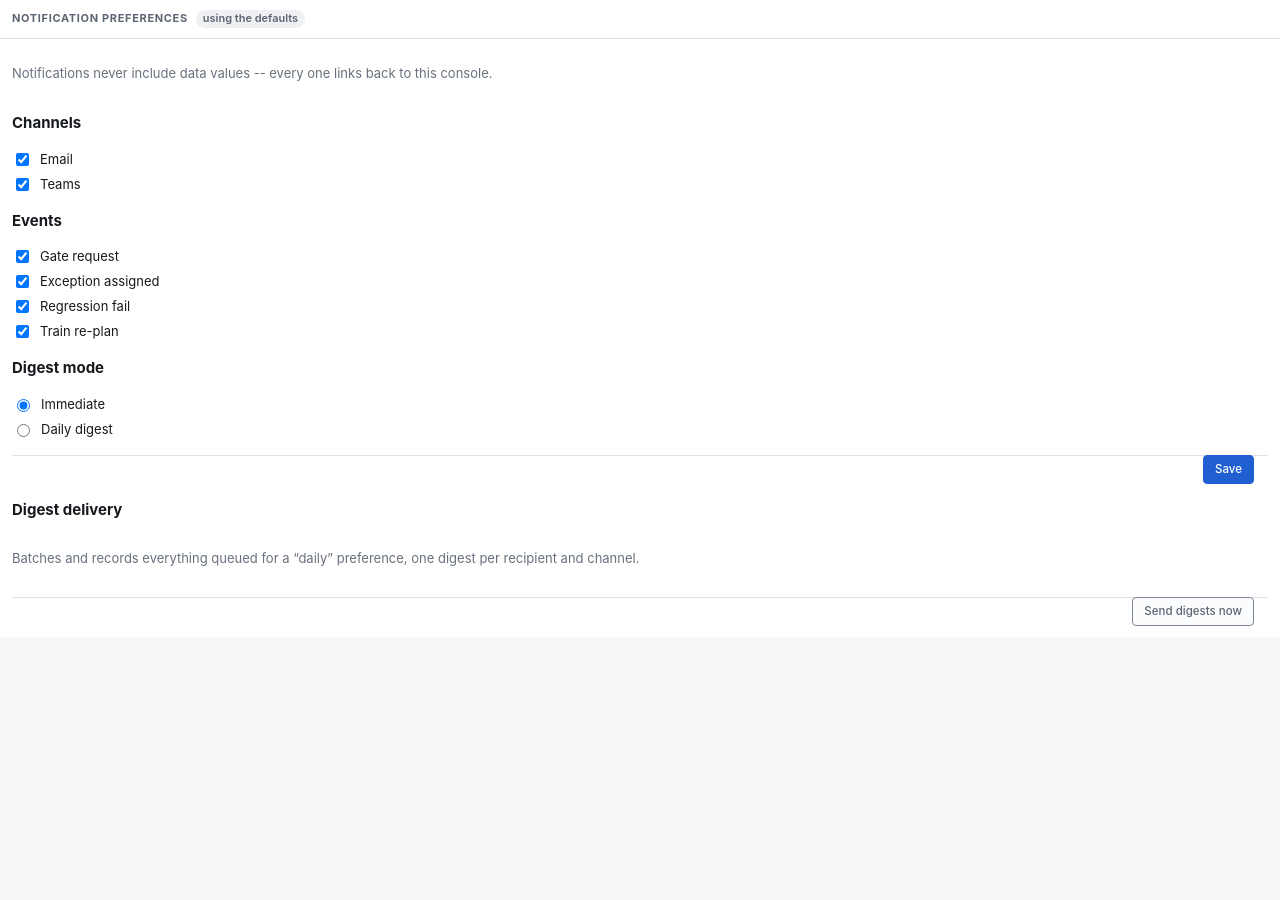
Test: digest delivery › shows and runs "Send digests now" for an Artizent role
This screenshot has width=1280, height=900.
Expected: the text "using the defaults" is shown, 196,10 -> 305,28
Click the button "Send digests now" at (1193,612), box 1132,598 -> 1254,626
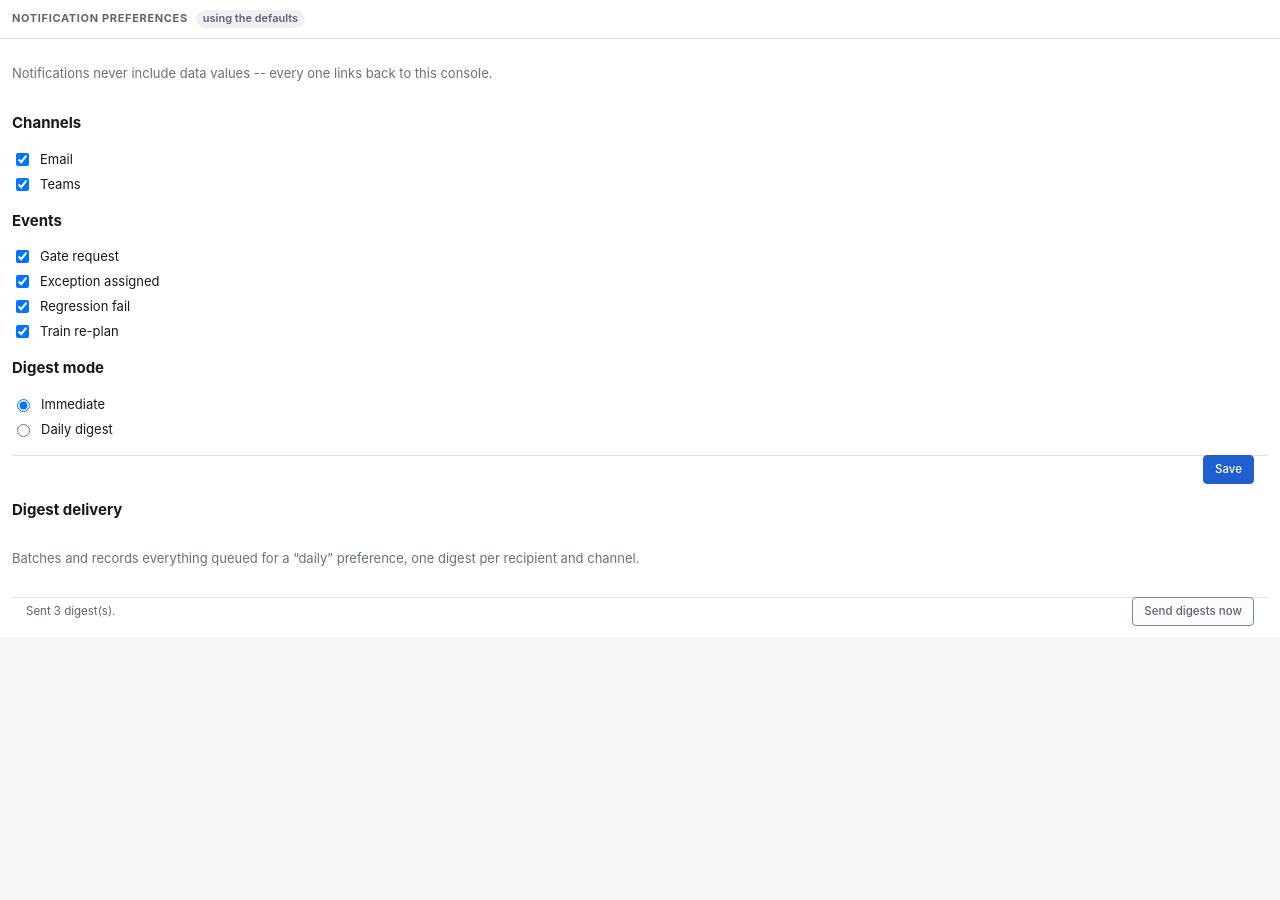
Expected: the text "Sent 3 digest(s)." is shown, 26,604 -> 115,620
